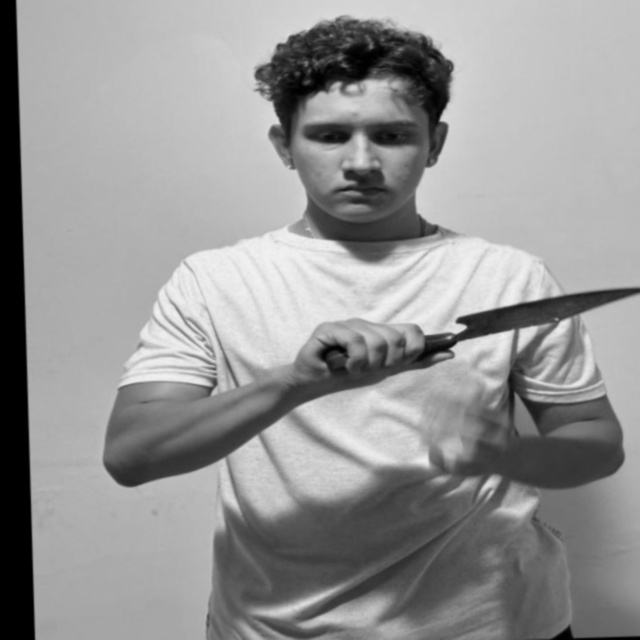Sharp-Object: (455, 284, 640, 340)
